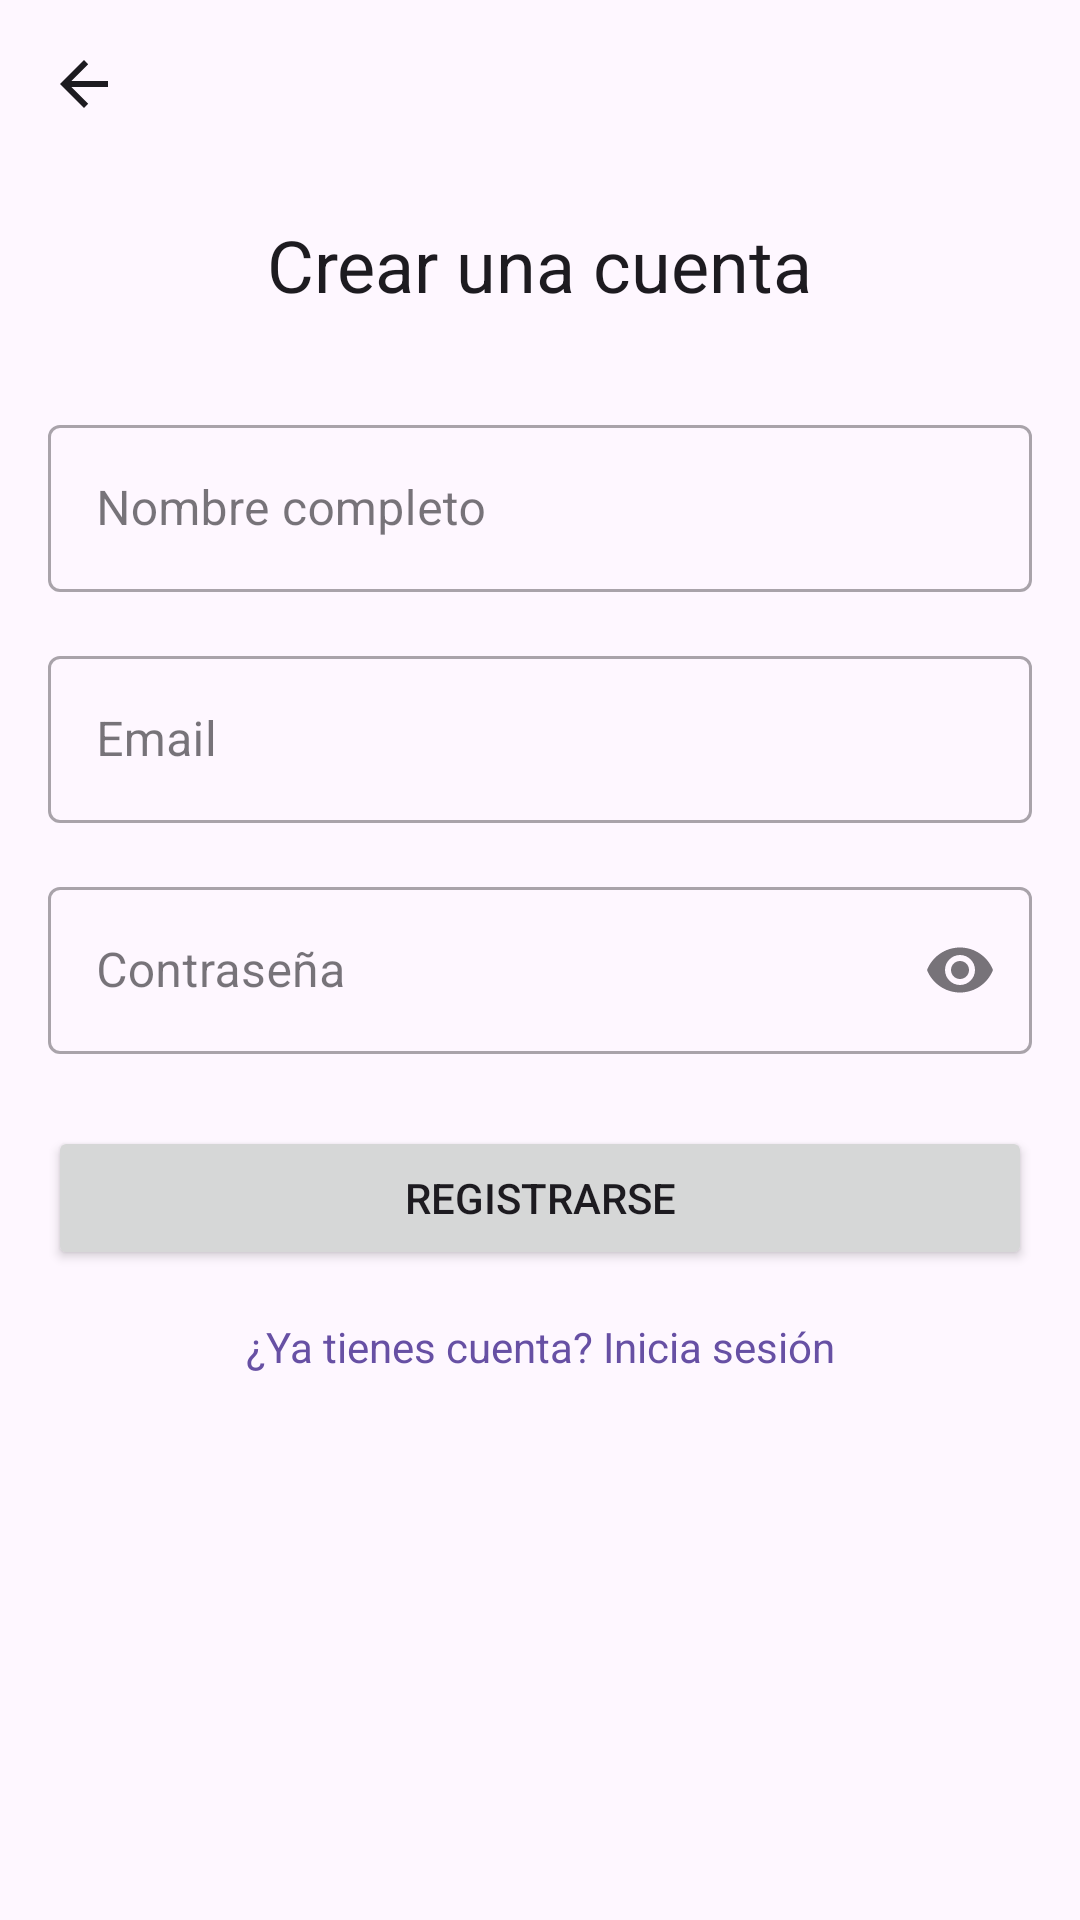

Screen size 1080w x 1920h. Icon name, then its center in pixels as (x,y):
ab back: (84,84)
